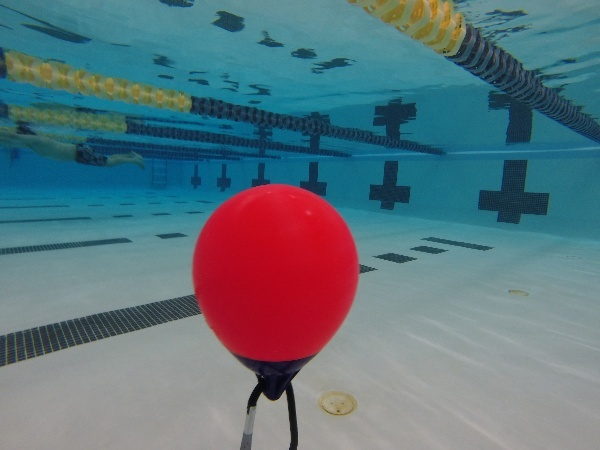buoy_red: (181, 177, 369, 405)
